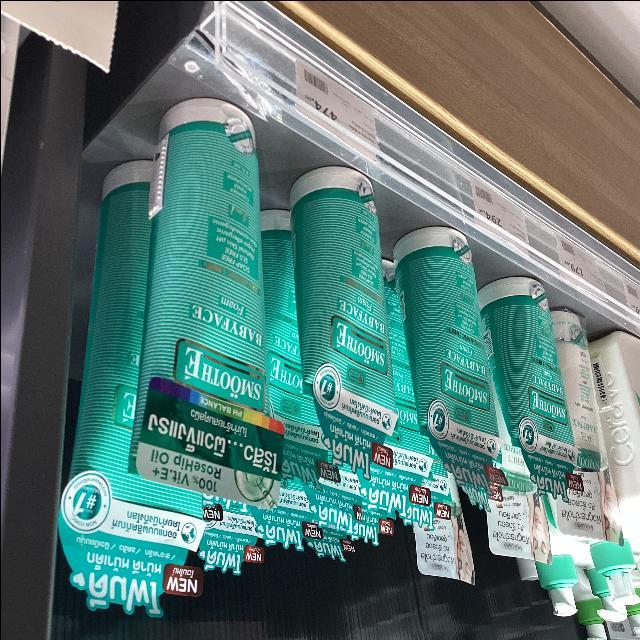Squeeze Tube: (44, 74, 640, 622)
